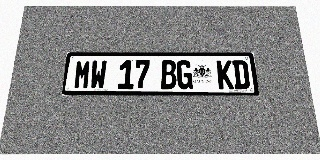1: (118, 60, 134, 89)
7: (134, 60, 150, 89)
B: (161, 60, 177, 89)
D: (232, 60, 250, 89)
G: (177, 60, 193, 89)
K: (216, 60, 234, 89)
M: (73, 60, 91, 89)
W: (89, 60, 107, 89)
